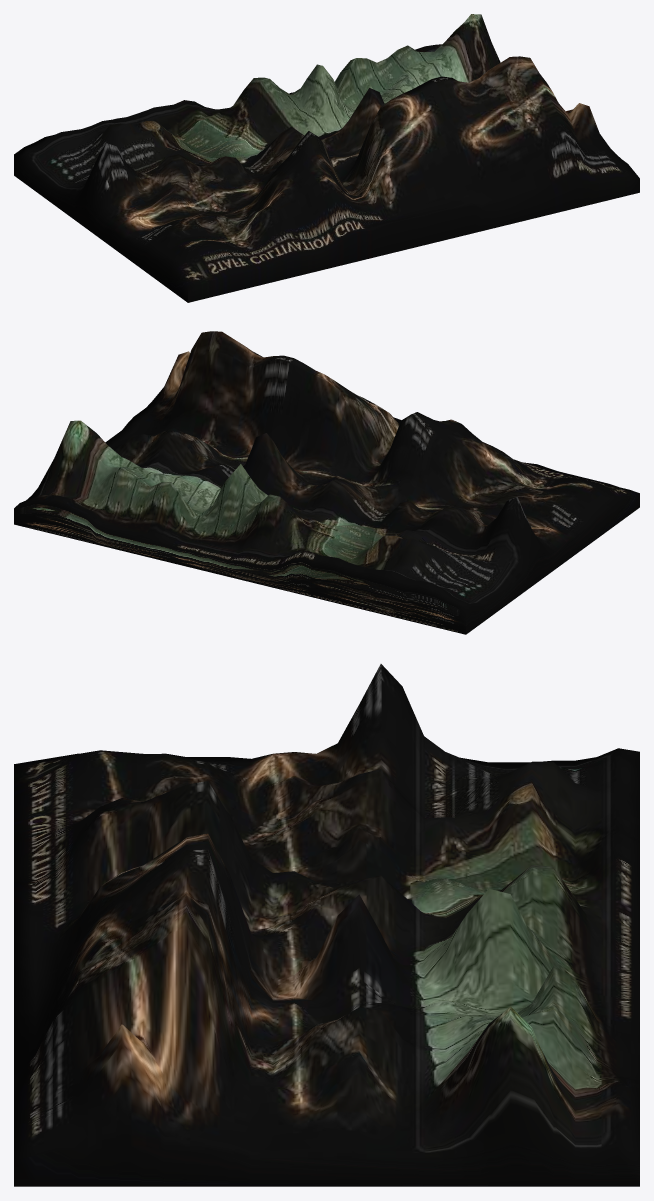
The model's file is CUL_14_Staff_Gun.glb.
The picture shows the model from 3 angles, top to bottom: view 1: azimuth 30°, elevation 25°; view 2: azimuth 150°, elevation 25°; view 3: azimuth 270°, elevation 25°; orthographic projection. The views are drawn at different scales.
Parts seen in each view (by area): view 1: CUL_14_Staff_Gun; view 2: CUL_14_Staff_Gun; view 3: CUL_14_Staff_Gun.
Boxes of the visible parts, x1,y1,x2,y2 form: CUL_14_Staff_Gun: (14, 14, 639, 302); CUL_14_Staff_Gun: (14, 331, 639, 634); CUL_14_Staff_Gun: (14, 664, 639, 1186).
Size of the model in its own units: 2 by 0.51 by 1.33.
1 material, 1 textured.
